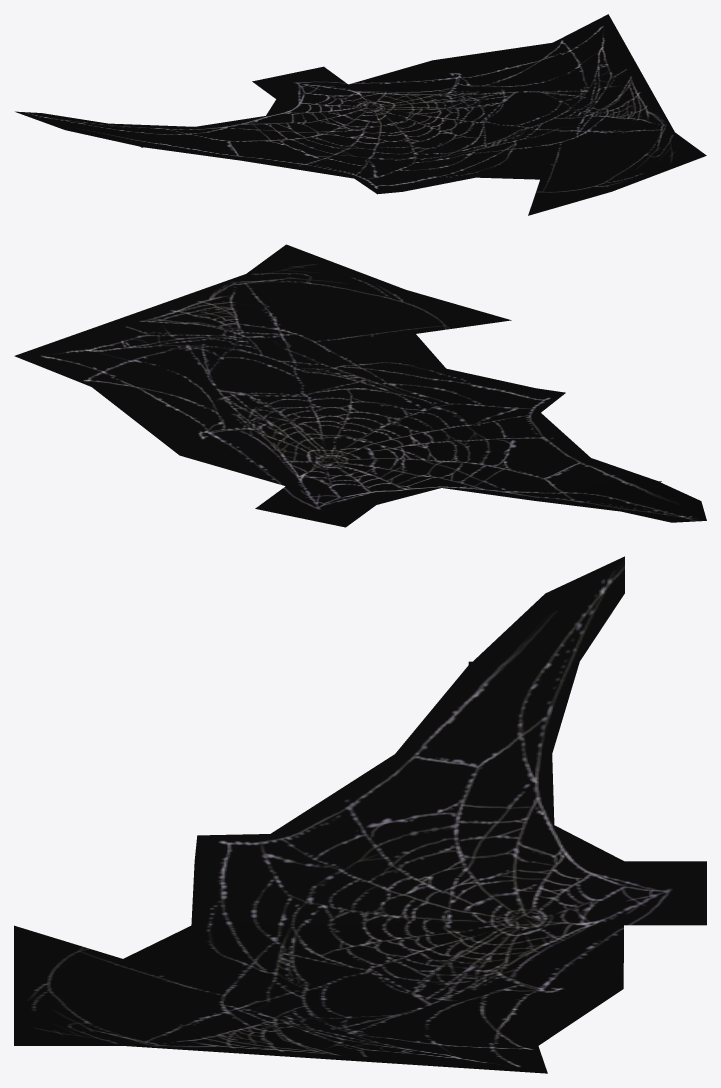
The model's file is Cobweb_03.fbx.
3 views of the same model, one above another, from view 1: azimuth 30°, elevation 25°; view 2: azimuth 150°, elevation 25°; view 3: azimuth 270°, elevation 25° (orthographic). The views are drawn at different scales.
Parts seen in each view (by area): view 1: pPlane2; view 2: pPlane2; view 3: pPlane2.
Boxes of the visible parts, x1,y1,x2,y2 form: pPlane2: [15, 14, 706, 215]; pPlane2: [14, 244, 706, 527]; pPlane2: [14, 556, 706, 1073].
Bounding box in the file's own units: 65.79 × 5.96 × 40.64.
1 material, 1 textured.
